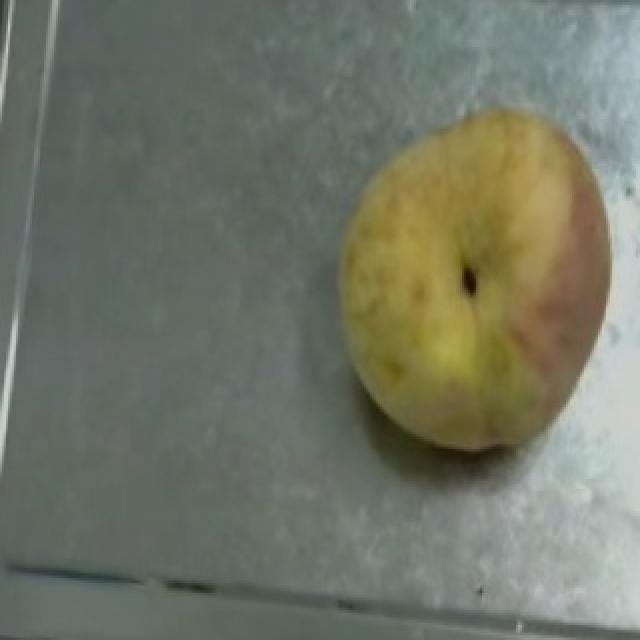Fruit: (316, 80, 640, 432)
